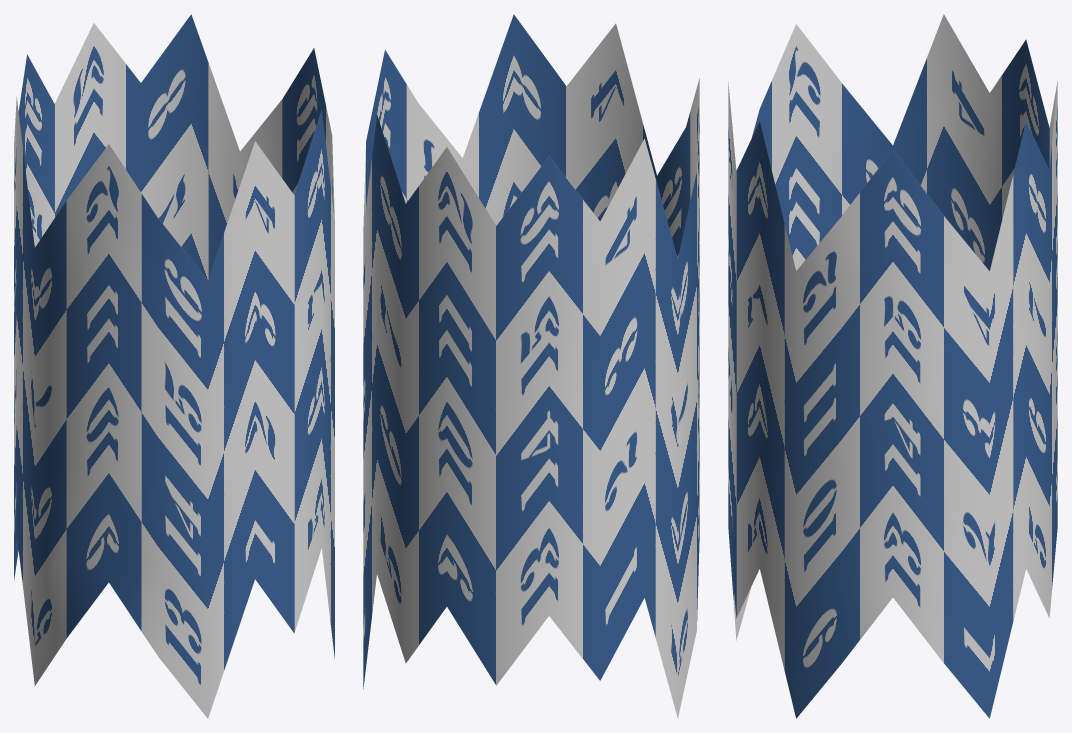
File: Shinobu_Unique2.fbx
3 renders of one model, left to right at view 1: azimuth 30°, elevation 25°; view 2: azimuth 150°, elevation 25°; view 3: azimuth 270°, elevation 25°, orthographic. The views are drawn at different scales.
Visible parts, largest first — view 1: SM_e_Plc_P0011_Unique002; view 2: SM_e_Plc_P0011_Unique002; view 3: SM_e_Plc_P0011_Unique002.
Boxes of the visible parts, <box> form: SM_e_Plc_P0011_Unique002: <box>14,14,334,718</box>; SM_e_Plc_P0011_Unique002: <box>363,14,699,718</box>; SM_e_Plc_P0011_Unique002: <box>728,14,1057,718</box>.
Bounding box in the file's own units: 160 × 312 × 160.
